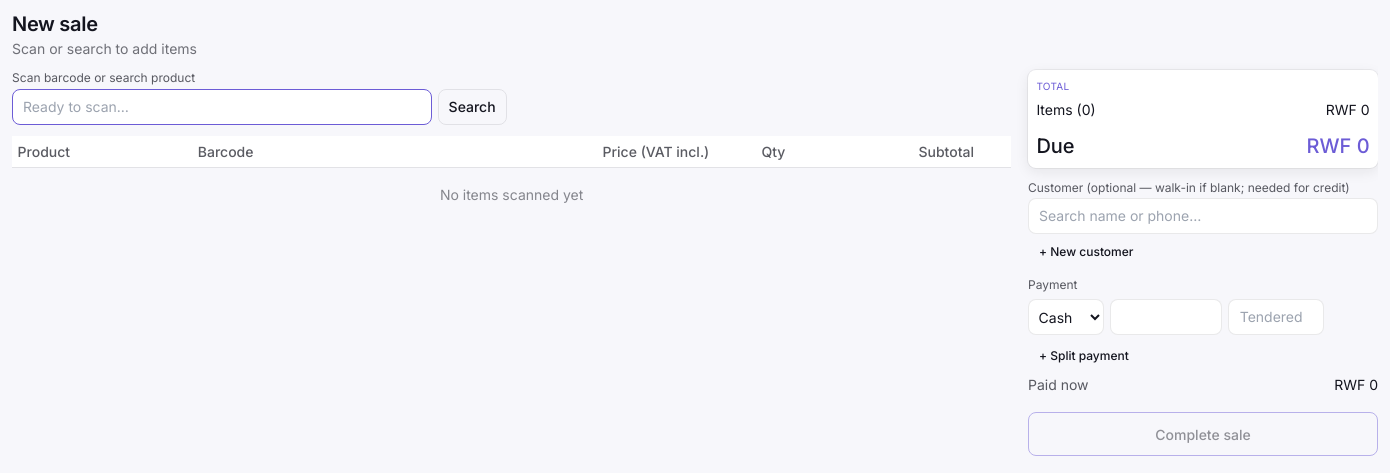
Test: PosCheckout › adds a scanned product to the cart and updates the total
Type "PES-AUD-00147" into the field labelled "Scan barcode or search product" at (222, 107), box [12,89,432,125]
Then press Enter
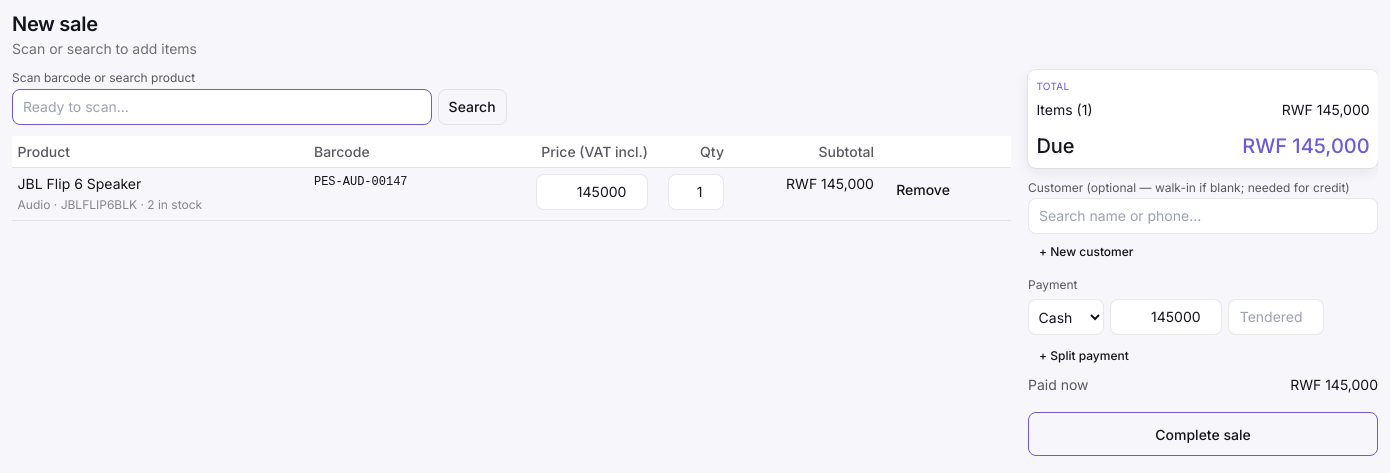
Now the text "JBL Flip 6 Speaker" is shown, box [18,175,141,192]
Now the text "RWF 145,000" is shown, box [730,168,880,220]
